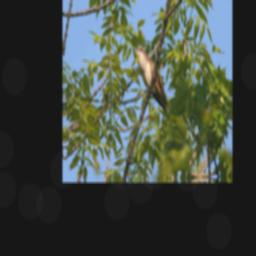Cuckoo: (133, 45, 171, 120)
